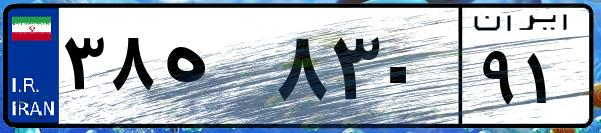0: (385, 28, 445, 110)
1: (525, 38, 570, 115)
3: (330, 28, 385, 110), (57, 26, 110, 100)
8: (270, 28, 330, 110), (110, 28, 158, 98)
9: (475, 38, 525, 113)
ه: (158, 20, 270, 120)
